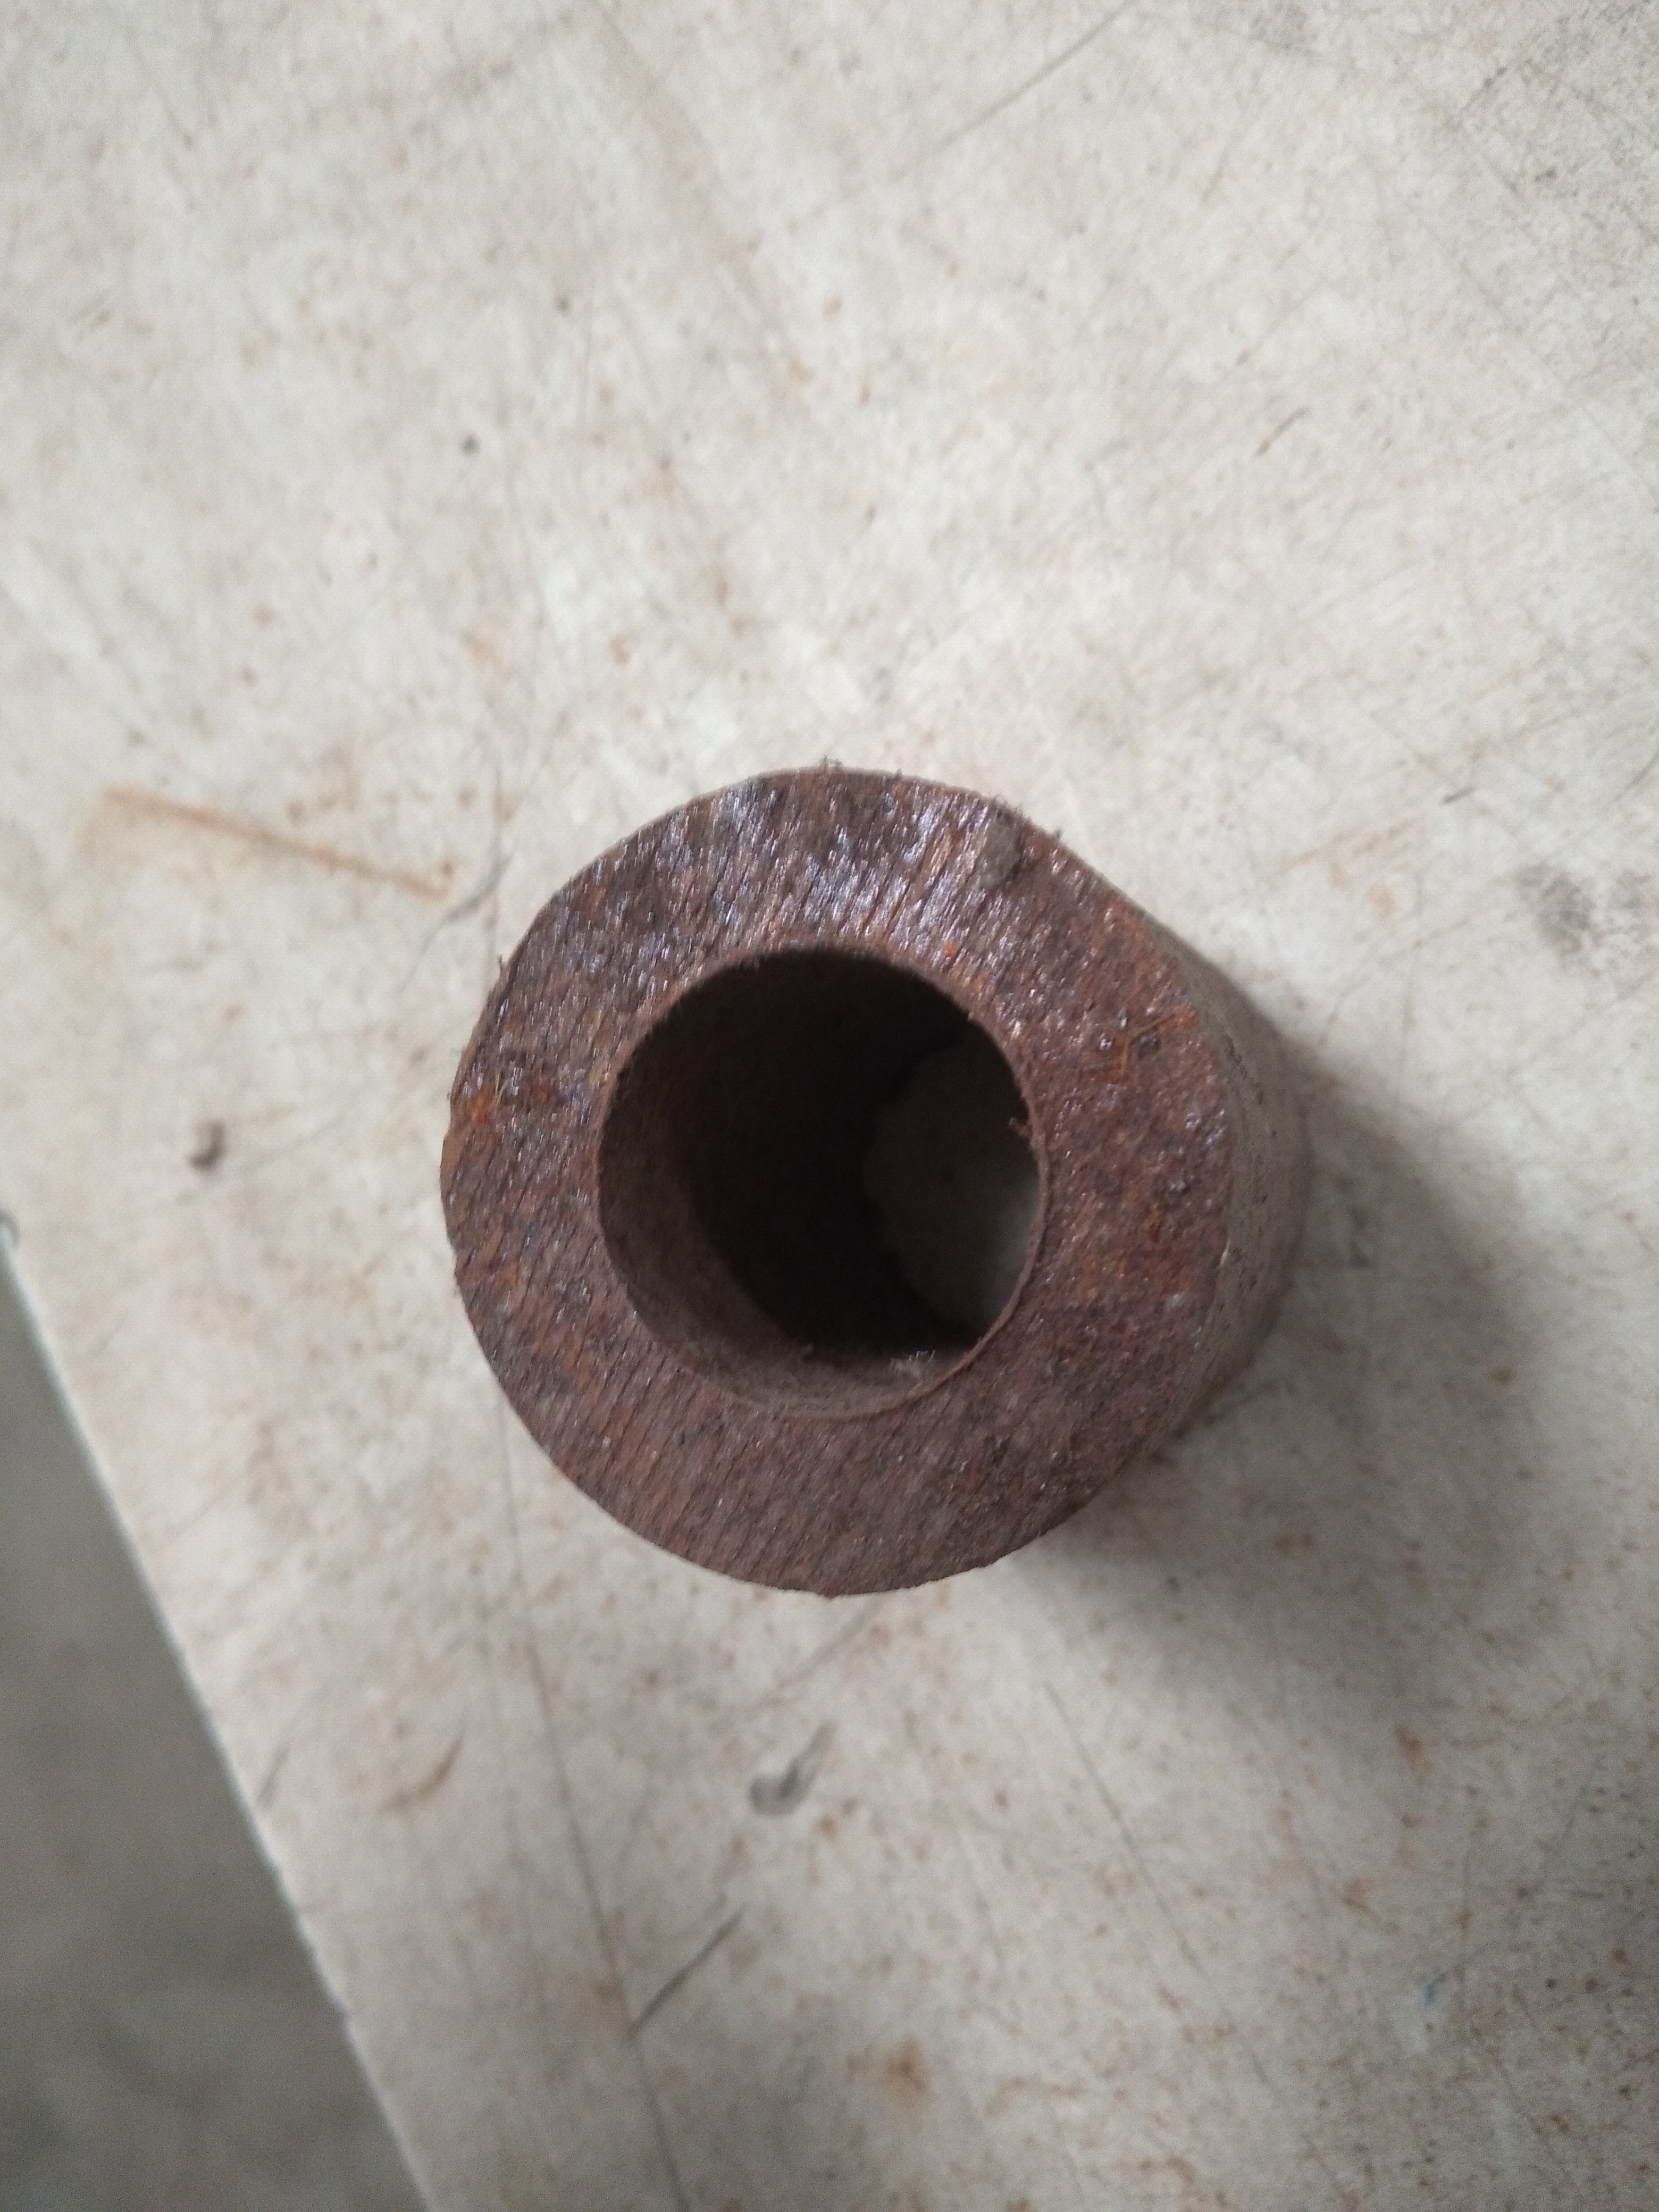No thread: (591, 927, 1134, 1461)
